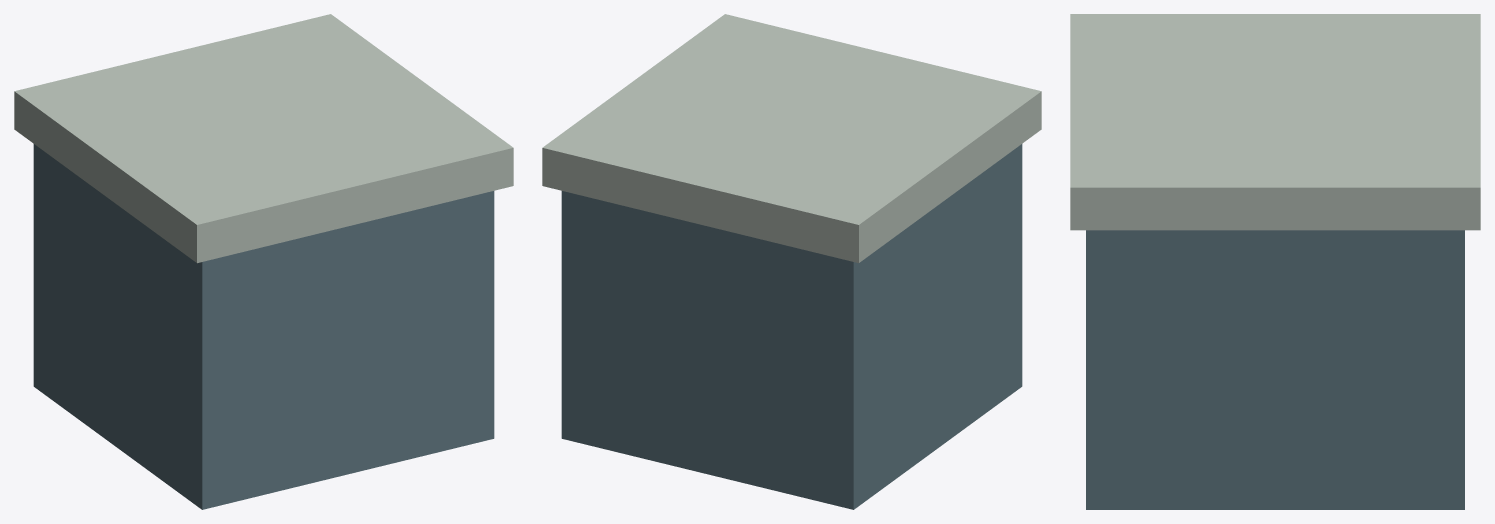
Rendered from edging_corner.glb.
The picture shows the model from 3 angles, left to right: view 1: azimuth 30°, elevation 25°; view 2: azimuth 150°, elevation 25°; view 3: azimuth 270°, elevation 25°; orthographic projection. The views are drawn at different scales.
Visible parts, largest first — view 1: EdgingCorner / Stone, EdgingCorner / Coping; view 2: EdgingCorner / Stone, EdgingCorner / Coping; view 3: EdgingCorner / Stone, EdgingCorner / Coping.
Boxes of the visible parts, x1,y1,x2,y2 form: EdgingCorner / Stone: [33, 144, 494, 509]; EdgingCorner / Coping: [14, 14, 513, 263]; EdgingCorner / Stone: [561, 144, 1022, 509]; EdgingCorner / Coping: [542, 14, 1041, 263]; EdgingCorner / Stone: [1086, 230, 1464, 509]; EdgingCorner / Coping: [1070, 14, 1480, 230].
Size of the model in its own units: 0.26 by 0.23 by 0.26.
